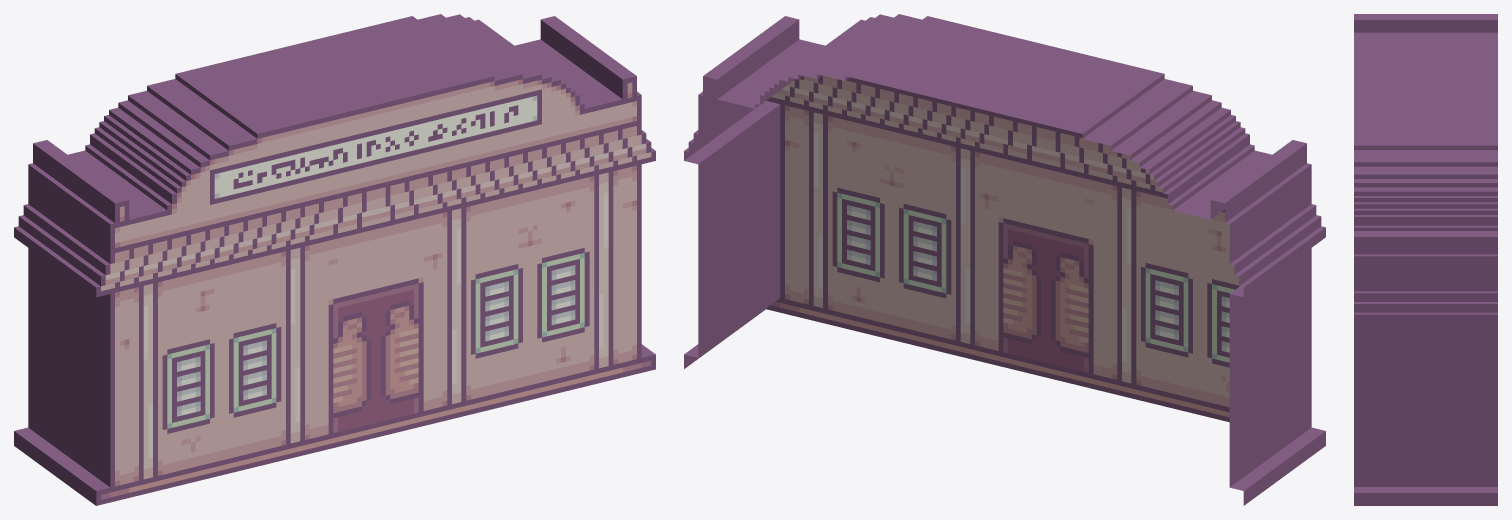
File: Calico_Buildings_5.fbx
3 views of the same model, side by side, from view 1: azimuth 30°, elevation 25°; view 2: azimuth 150°, elevation 25°; view 3: azimuth 270°, elevation 25° (orthographic). The views are drawn at different scales.
Parts seen in each view (by area): view 1: Calico_Building_5; view 2: Calico_Building_5; view 3: Calico_Building_5.
Part boxes in pixels (x1=…): Calico_Building_5: x1=14, y1=14, x2=655, y2=505; Calico_Building_5: x1=684, y1=14, x2=1325, y2=505; Calico_Building_5: x1=1354, y1=14, x2=1497, y2=505.
Bounding box in the file's own units: 11800 × 6700 × 3000.
